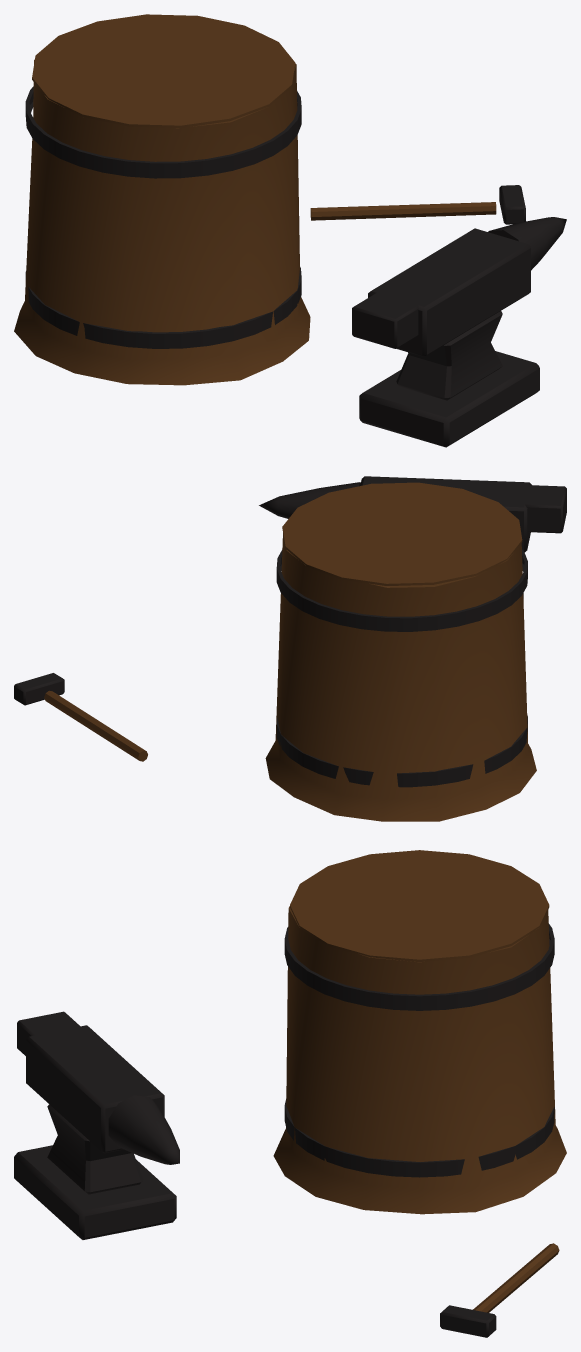
Rendered from amboss_kaputt.glb.
The picture shows the model from 3 angles, top to bottom: view 1: azimuth 30°, elevation 25°; view 2: azimuth 150°, elevation 25°; view 3: azimuth 270°, elevation 25°; orthographic projection. The views are drawn at different scales.
Parts seen in each view (by area): view 1: amboss_kaputt; view 2: amboss_kaputt; view 3: amboss_kaputt.
Boxes of the visible parts, x1,y1,x2,y2 form: amboss_kaputt: [14, 14, 566, 447]; amboss_kaputt: [14, 476, 566, 821]; amboss_kaputt: [14, 850, 566, 1337].
Size of the model in its own units: 1.09 by 0.5113 by 1.02.
